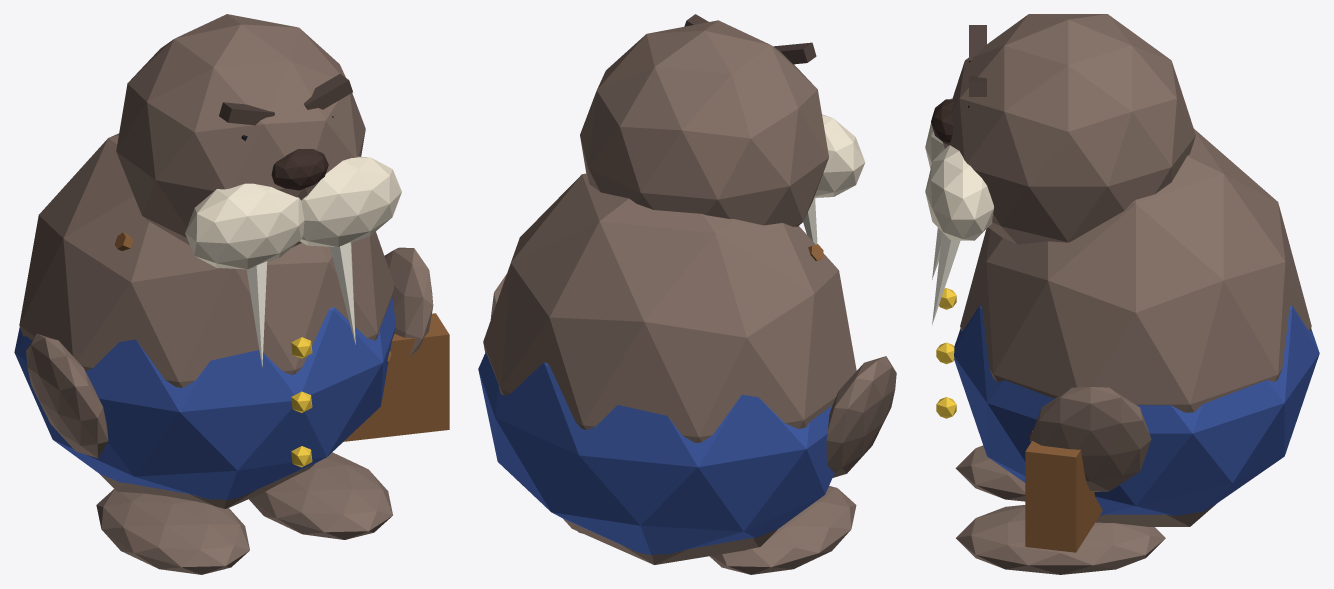
File: Gruff.fbx
The picture shows the model from 3 angles, left to right: view 1: azimuth 30°, elevation 25°; view 2: azimuth 150°, elevation 25°; view 3: azimuth 270°, elevation 25°; orthographic projection.
Visible parts, largest first — view 1: Skin, Jacket, Mustache, Bag, Tusks, Brows, Nose, Buttons; view 2: Skin, Jacket, Mustache, Brows; view 3: Skin, Jacket, Bag, Mustache, Tusks, Buttons, Brows, Nose.
Boxes of the visible parts, bbox=[...] form: Skin: bbox=[19, 14, 433, 574]; Jacket: bbox=[14, 298, 395, 500]; Mustache: bbox=[185, 156, 401, 269]; Bag: bbox=[114, 232, 449, 441]; Tusks: bbox=[246, 242, 355, 367]; Brows: bbox=[219, 74, 352, 125]; Nose: bbox=[271, 149, 328, 190]; Buttons: bbox=[291, 337, 312, 467]; Skin: bbox=[483, 20, 896, 574]; Jacket: bbox=[478, 353, 834, 555]; Mustache: bbox=[814, 114, 865, 197]; Brows: bbox=[684, 14, 816, 64]; Skin: bbox=[942, 14, 1311, 574]; Jacket: bbox=[954, 305, 1319, 515]; Bag: bbox=[1025, 430, 1102, 552]; Mustache: bbox=[925, 98, 994, 240]; Tusks: bbox=[932, 227, 960, 325]; Buttons: bbox=[936, 288, 956, 418]; Brows: bbox=[969, 25, 986, 96]; Nose: bbox=[931, 99, 953, 143].
Size of the model in its own units: 2.99 by 3.73 by 2.63.
